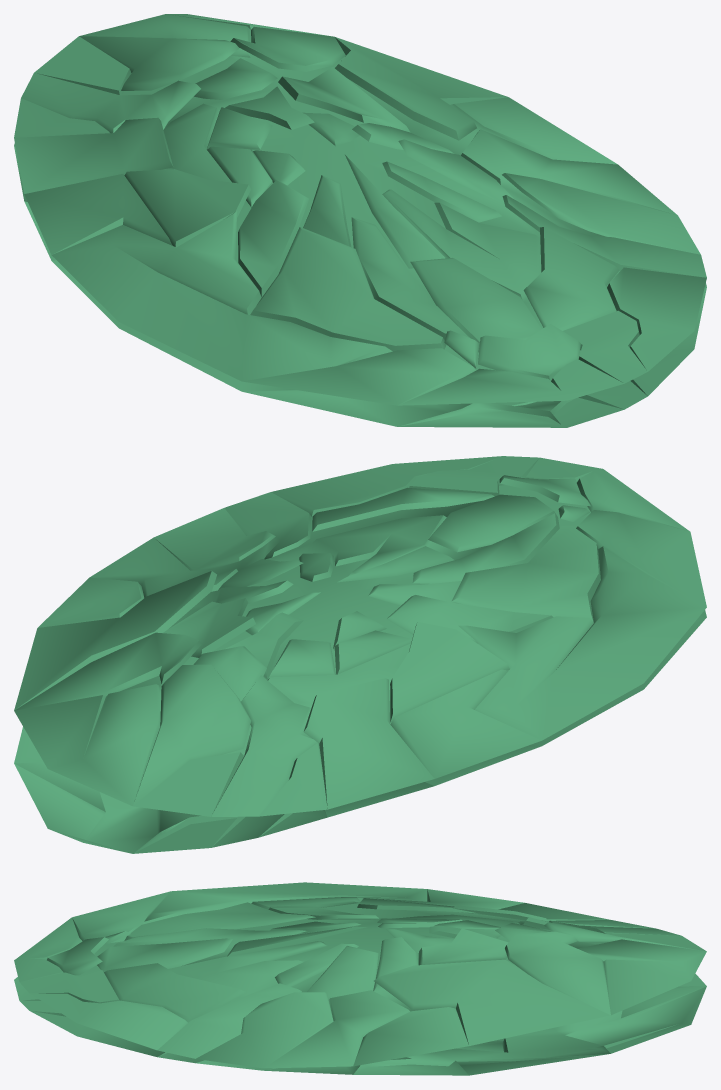
File: etc_dargonship_weapon_eff_axe_eff2.glb
3 renders of one model, top to bottom at view 1: azimuth 30°, elevation 25°; view 2: azimuth 150°, elevation 25°; view 3: azimuth 270°, elevation 25°, orthographic. The views are drawn at different scales.
Bounding box in the file's own units: 1.75 × 0.5029 × 2.75.
